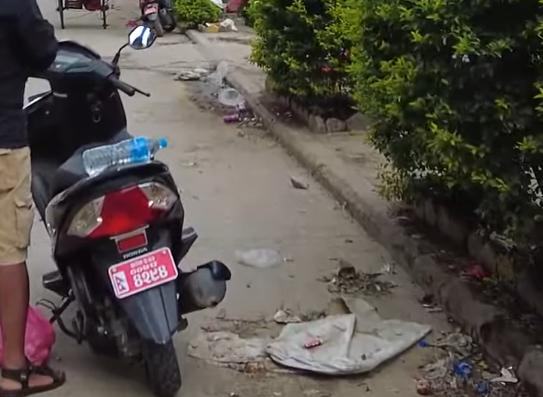scooter: (4, 21, 234, 397)
